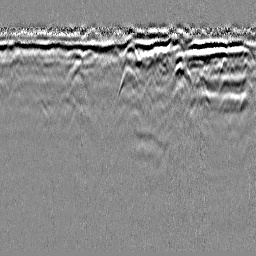cavity: (116, 61, 140, 97)
